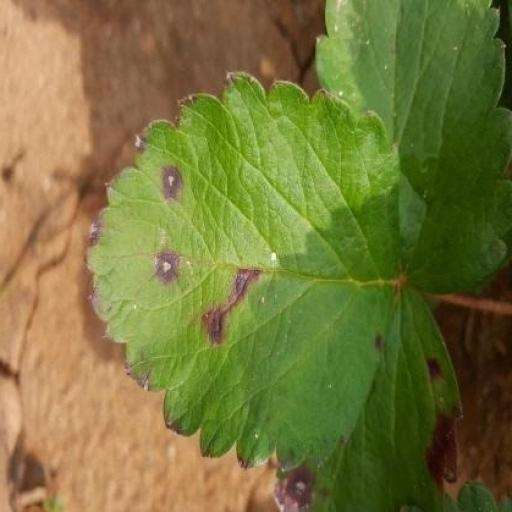Leaf Spot: (110, 73, 429, 471), (48, 280, 241, 511)
